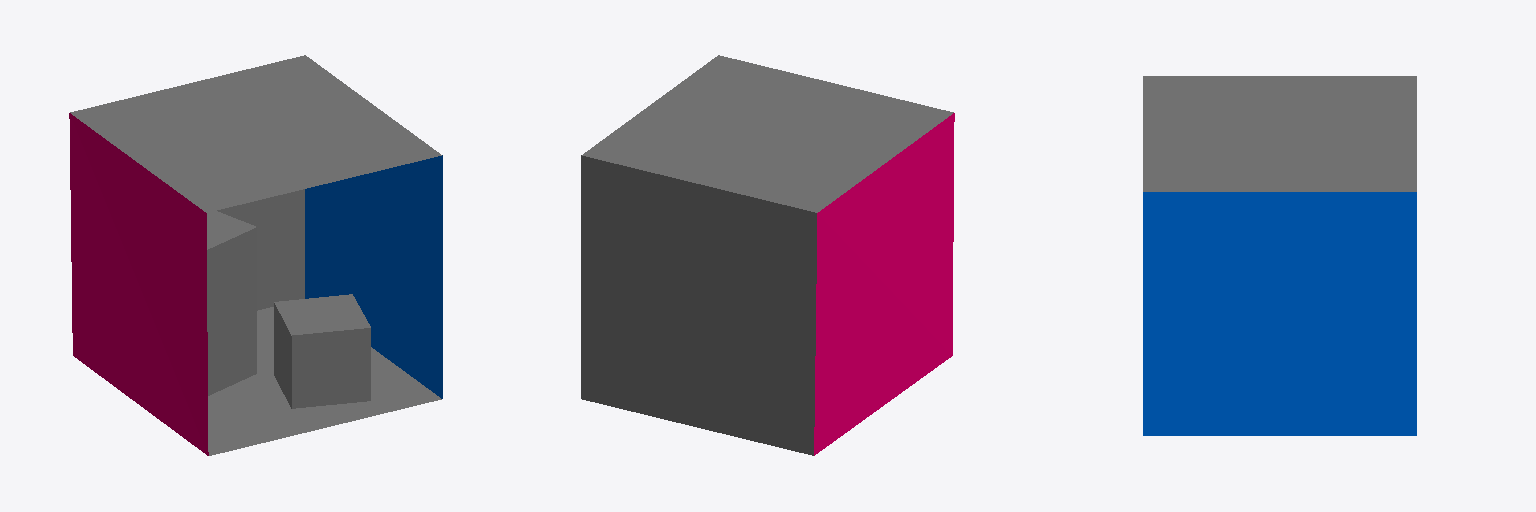
File: cornellBox.obj
The picture shows the model from 3 angles: view 1: azimuth 30°, elevation 25°; view 2: azimuth 150°, elevation 25°; view 3: azimuth 270°, elevation 25°; orthographic projection.
Parts seen in each view (by area): view 1: Mesh; view 2: Mesh; view 3: Mesh.
Boxes of the visible parts, <box> form: Mesh: <box>69,55,442,455</box>; Mesh: <box>581,55,954,455</box>; Mesh: <box>1143,76,1416,435</box>.
Size of the model in its own units: 5.56 by 5.49 by 5.59.